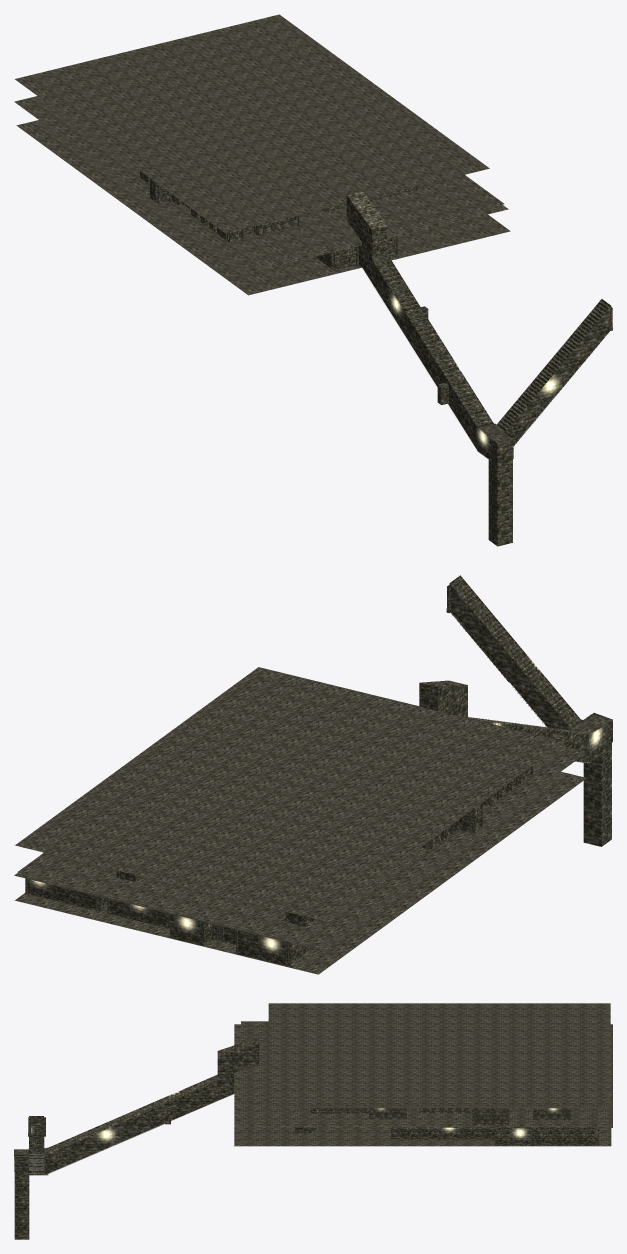
The model's file is 002_zennkiseisaku_meiro2_01_38.fbx.
The picture shows the model from 3 angles, top to bottom: view 1: azimuth 30°, elevation 25°; view 2: azimuth 150°, elevation 25°; view 3: azimuth 270°, elevation 25°; orthographic projection. The views are drawn at different scales.
Parts seen in each view (by area): view 1: tenjou_2kai, yuka_2kai, kabe_1kai, yuka_1kai, tenjou_kaidann, tenjou_kaidann2, kabe_2kai, tenjou_1kai; view 2: tenjou_2kai, kabe_1kai, yuka_2kai, yuka_1kai, tenjou_kaidann2, tenjou_1kai, kabe_2kai, hasira; view 3: tenjou_2kai, kabe_1kai, yuka_2kai, yuka_1kai, kabe_2kai, tenjou_1kai, tenjou_kaidann, kaidann, suro-pu.
Part boxes in pixels (x1=…): tenjou_2kai: x1=15, y1=14, x2=489, y2=233; yuka_2kai: x1=14, y1=96, x2=504, y2=268; kabe_1kai: x1=315, y1=190, x2=611, y2=546; yuka_1kai: x1=16, y1=120, x2=510, y2=295; tenjou_kaidann: x1=372, y1=255, x2=492, y2=427; tenjou_kaidann2: x1=497, y1=301, x2=609, y2=430; kabe_2kai: x1=140, y1=171, x2=416, y2=241; tenjou_1kai: x1=242, y1=204, x2=508, y2=272; tenjou_2kai: x1=15, y1=667, x2=564, y2=920; kabe_1kai: x1=27, y1=575, x2=612, y2=966; yuka_2kai: x1=17, y1=747, x2=585, y2=946; yuka_1kai: x1=15, y1=771, x2=586, y2=974; tenjou_kaidann2: x1=451, y1=578, x2=580, y2=729; tenjou_1kai: x1=14, y1=745, x2=586, y2=949; kabe_2kai: x1=119, y1=767, x2=531, y2=926; hasira: x1=25, y1=766, x2=532, y2=966; tenjou_2kai: x1=268, y1=1003, x2=610, y2=1108; kabe_1kai: x1=14, y1=1037, x2=597, y2=1239; yuka_2kai: x1=241, y1=1021, x2=610, y2=1125; yuka_1kai: x1=234, y1=1127, x2=611, y2=1146; kabe_2kai: x1=310, y1=1108, x2=569, y2=1125; tenjou_1kai: x1=234, y1=1024, x2=612, y2=1127; tenjou_kaidann: x1=48, y1=1076, x2=217, y2=1153; kaidann: x1=28, y1=1130, x2=315, y2=1175; suro-pu: x1=29, y1=1094, x2=317, y2=1174.
Size of the model in its own units: 973 by 847 by 2342.
